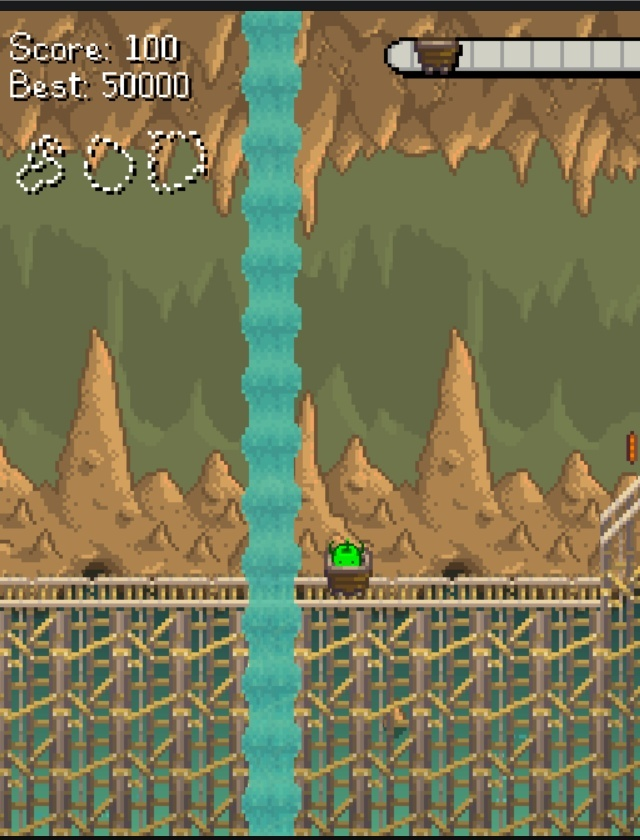minecart: (324, 540, 371, 596)
tracks: (0, 560, 610, 615)
